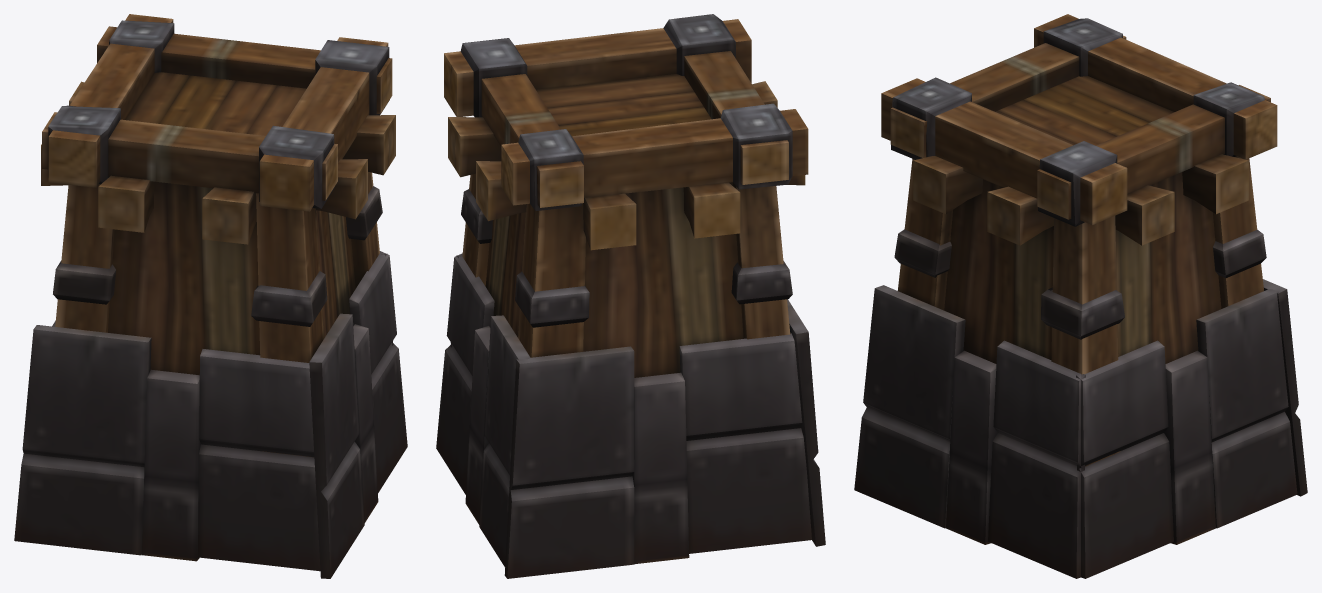
File: Tower_Base1_2.fbx
3 renders of one model, left to right at view 1: azimuth 30°, elevation 25°; view 2: azimuth 150°, elevation 25°; view 3: azimuth 270°, elevation 25°, orthographic. The views are drawn at different scales.
Visible parts, largest first — view 1: Tower_Base1_2; view 2: Tower_Base1_2; view 3: Tower_Base1_2.
Part boxes in pixels (bbox=[...]): Tower_Base1_2: bbox=[14, 14, 407, 578]; Tower_Base1_2: bbox=[436, 14, 825, 578]; Tower_Base1_2: bbox=[854, 14, 1307, 578].
Size of the model in its own units: 289 by 291 by 299.
1 material, 1 textured.
